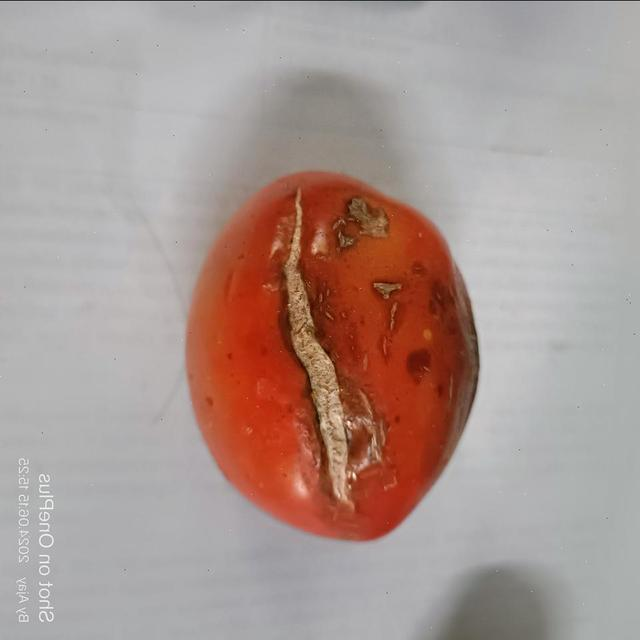Cracking Fruit: (140, 157, 375, 409)
